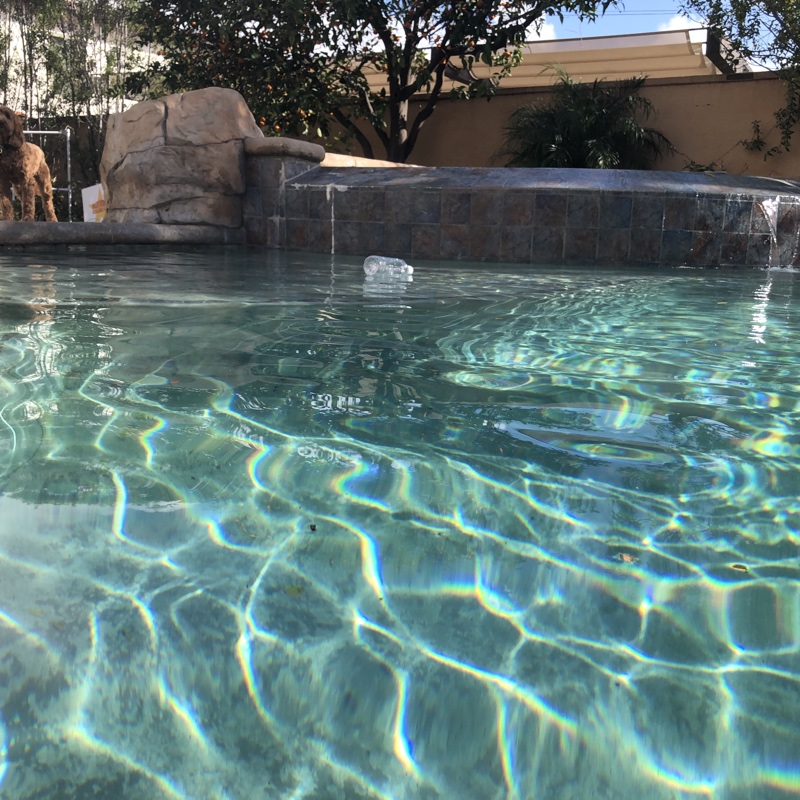Plastic Bottle: (359, 254, 414, 286)
